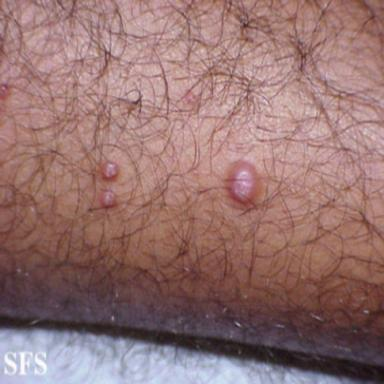Molluscum-Contagiosum: (226, 161, 260, 204), (100, 190, 115, 208), (103, 162, 118, 179), (0, 84, 9, 98)
